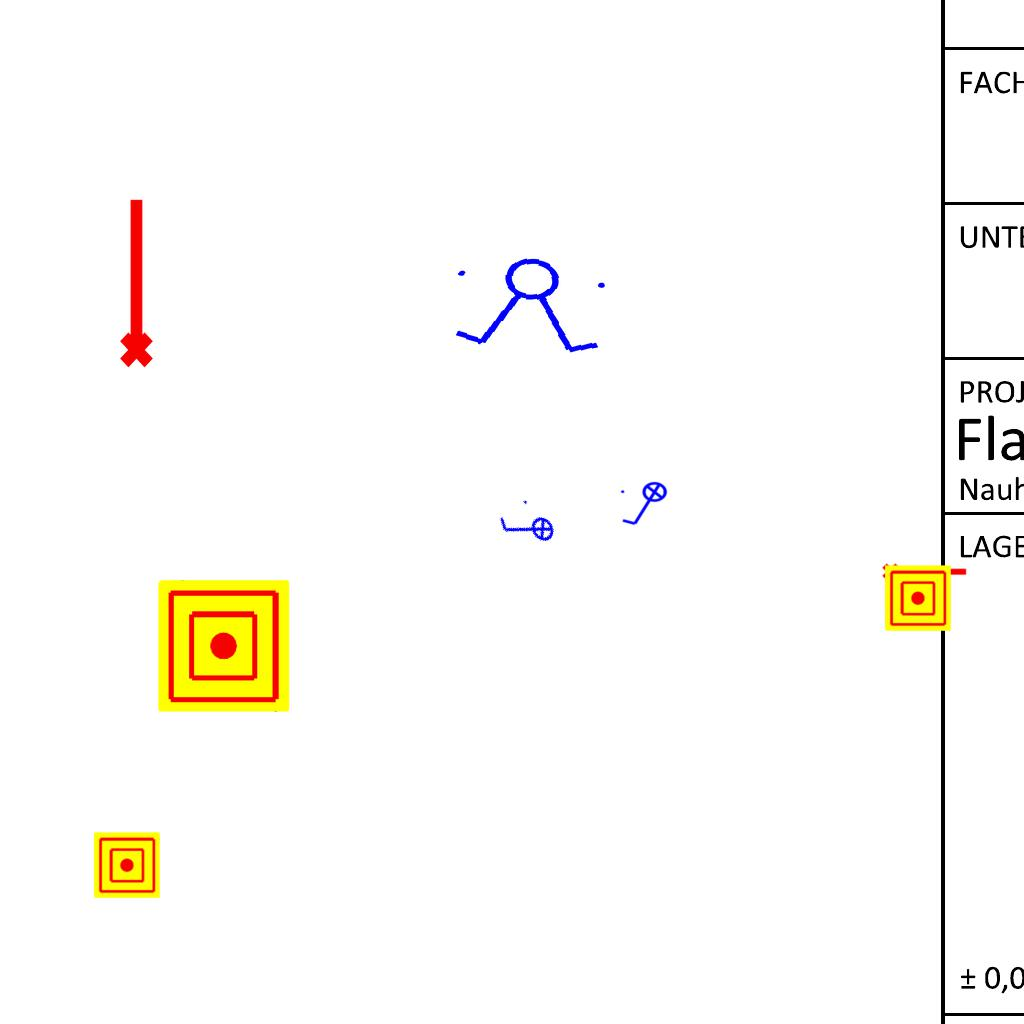ASR_Ansaugoeffnung: (111, 194, 157, 370), (881, 559, 969, 582)
Ausschalter_beleuchtet: (491, 492, 563, 566), (618, 481, 674, 529)
NAM-Nichtautomatischer_Melder: (158, 580, 290, 712), (94, 832, 160, 898), (885, 565, 951, 631)
Serienschalter: (443, 249, 619, 361)
